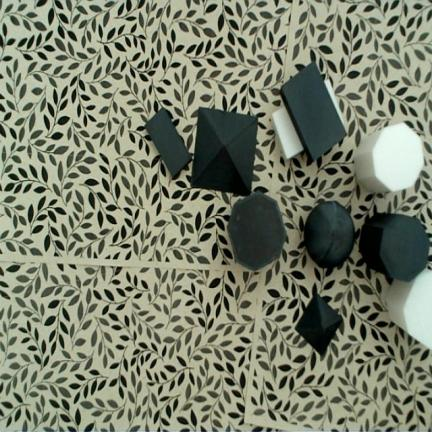Esfera: (304, 201, 355, 268)
Paralelepipedo: (281, 61, 347, 161), (271, 79, 345, 161), (145, 108, 192, 176)
Piramide: (190, 106, 258, 196), (295, 294, 342, 356)
Prisma_hexagonal: (354, 122, 424, 192), (360, 213, 430, 282), (227, 193, 287, 270), (386, 269, 431, 349)
